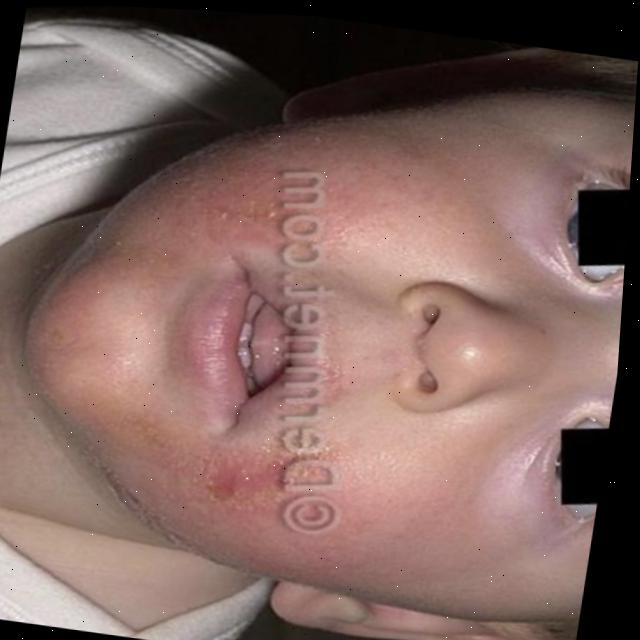Eczema: (169, 137, 343, 272), (174, 422, 327, 547)
